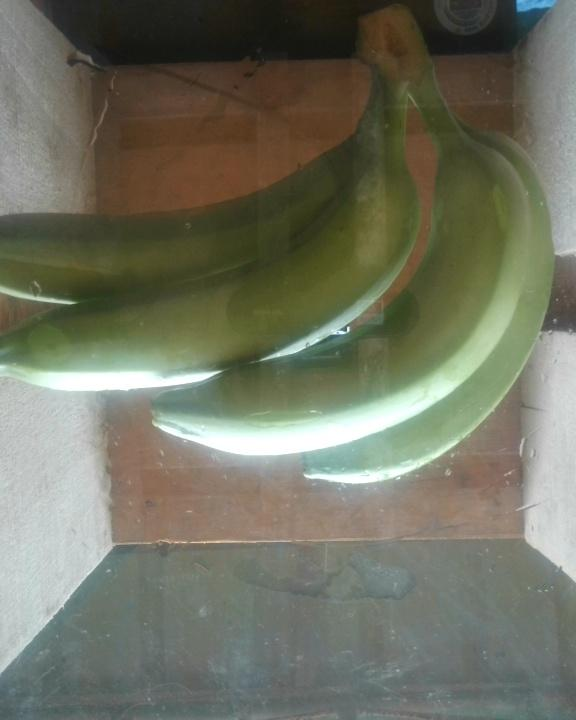SPOT: (1, 4, 569, 498)
